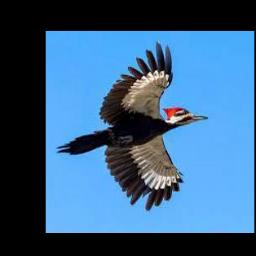Woodpecker: (56, 40, 209, 211)
